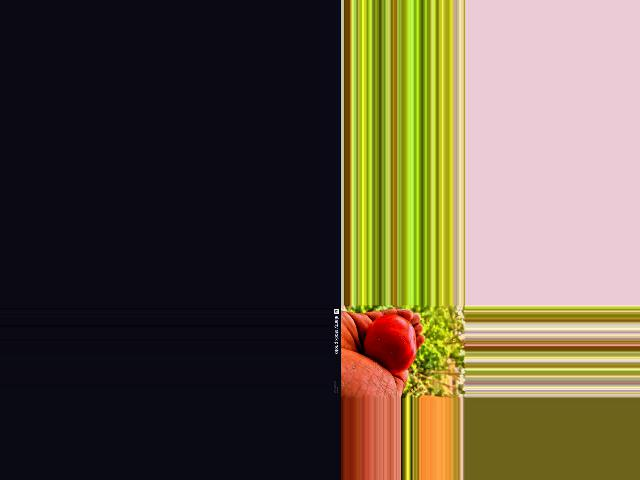tomato: (364, 315, 415, 373)
